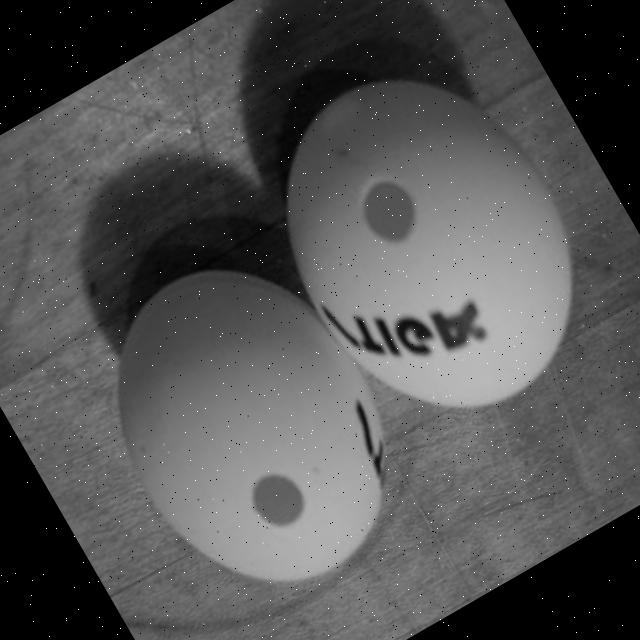ping-pong-ball: (228, 24, 634, 462), (59, 219, 440, 632)
